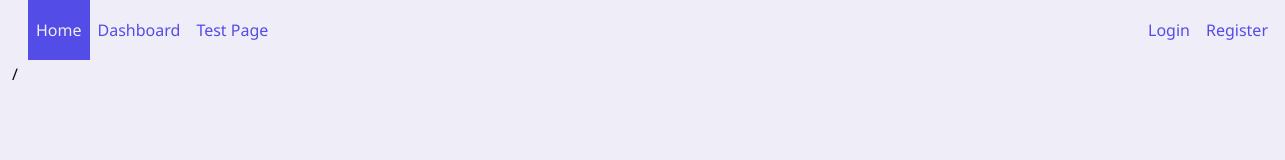
Test: <Nav /> › Navigates to Dashboard
What coordinates should you click on to do the following:
click the link to "/dashboard"
I would click on:
 (140, 30)
Its box is [98,19,181,41].
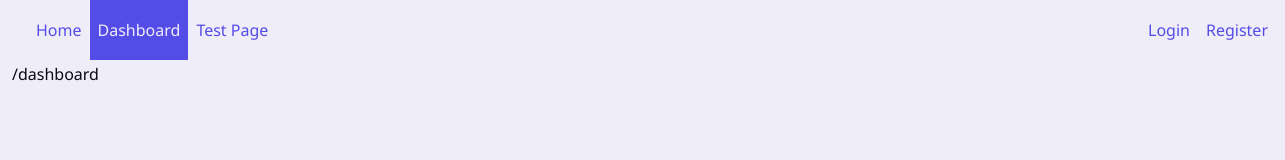
Result: the text with id "location-display" reads "/dashboard" at [12,63,99,85]
